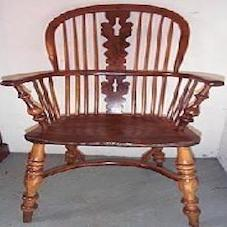chair: (1, 5, 218, 225)
